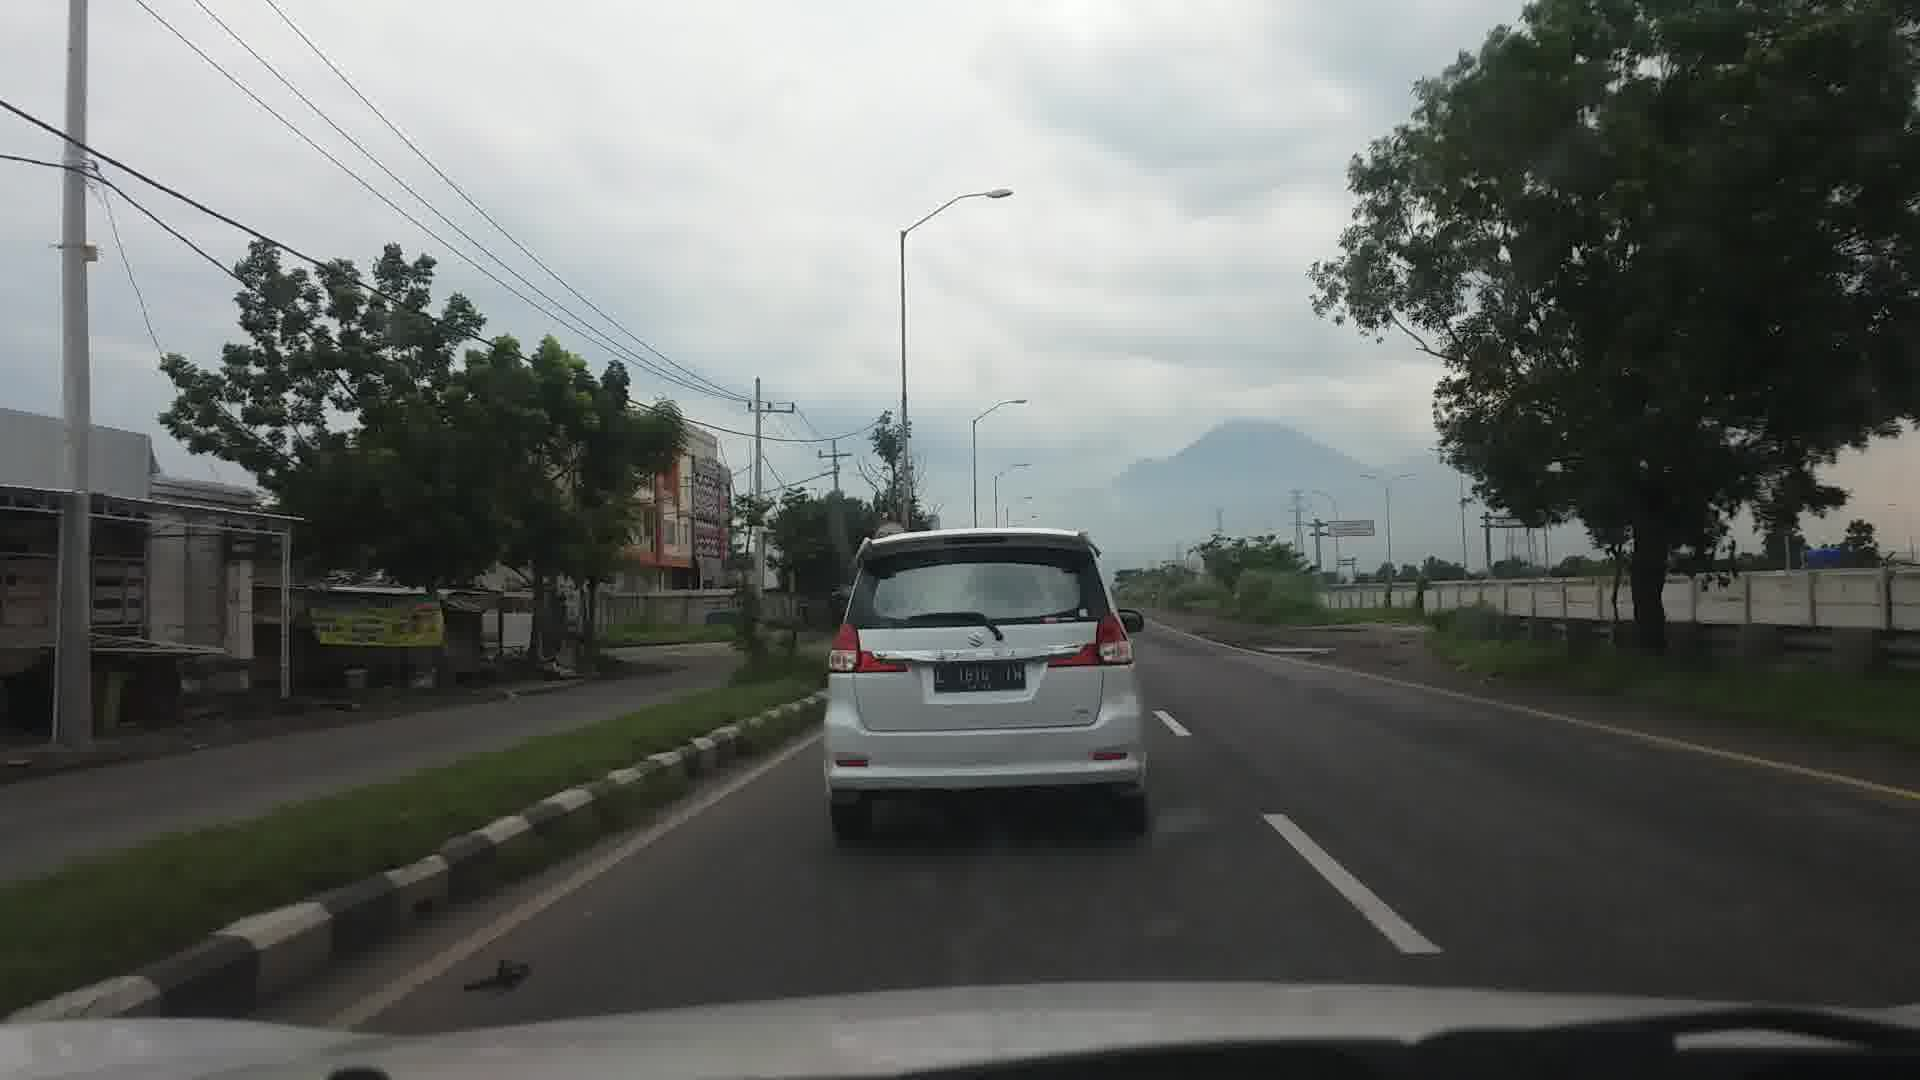plate_positive: (934, 662, 1026, 690)
